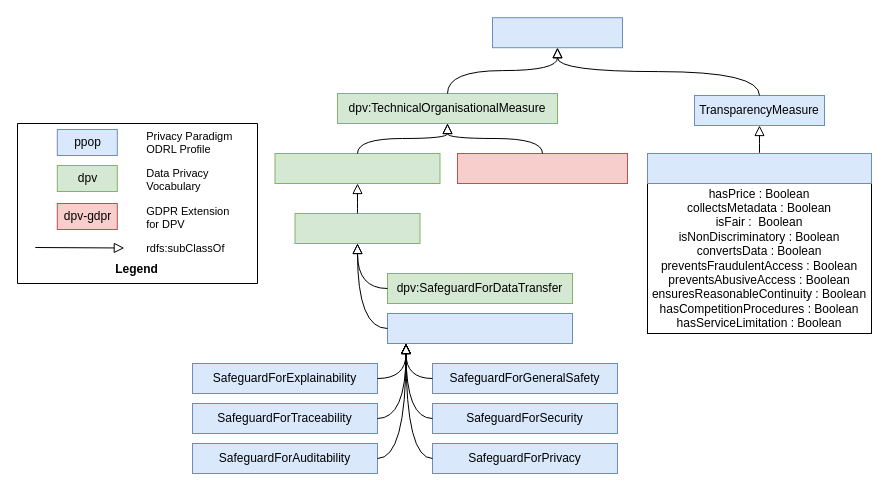
Some shapes in this 889 by 491 pixel diagram are drawn without their labels. Each missing label, with the centre of its shape:
"dpv-gdpr:DataTransferTool" goes at pixel 542 168.
"dpv:OrganisationalMeasure" goes at pixel 357 168.
"dpv:Safeguard" goes at pixel 357 228.
"Measure" goes at pixel 557 32.
"SafeguardForTrustworthiness" goes at pixel 479 328.
"ServiceConditions" goes at pixel 759 168.
